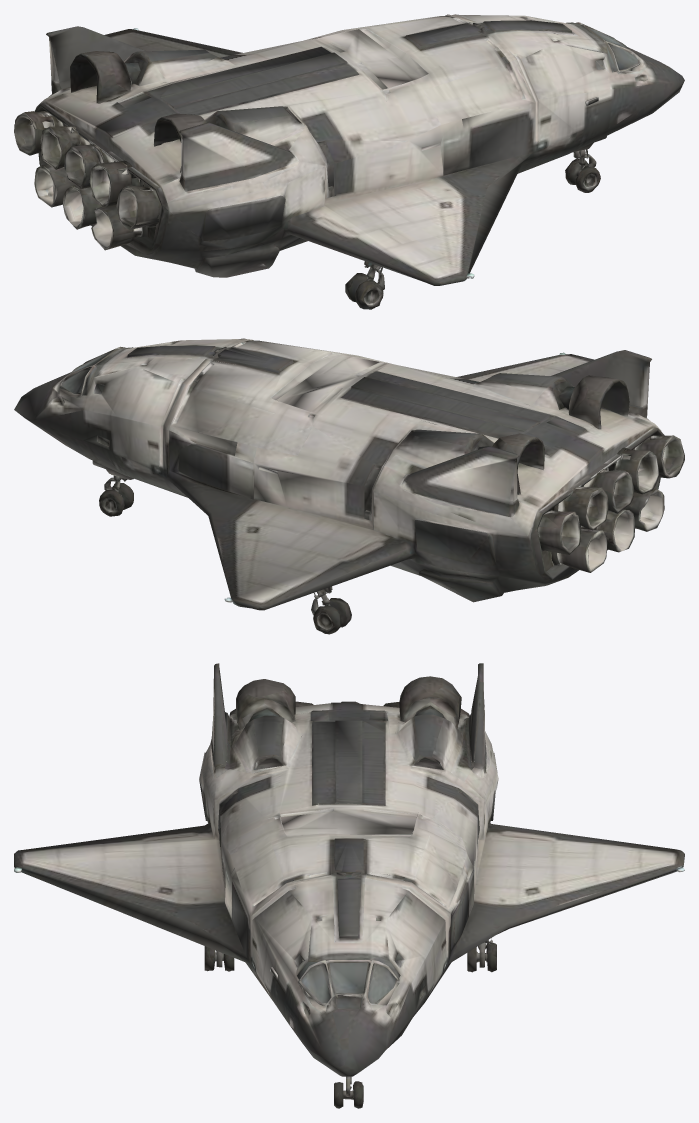
File: shuttle.glb
The picture shows the model from 3 angles, top to bottom: view 1: azimuth 30°, elevation 25°; view 2: azimuth 150°, elevation 25°; view 3: azimuth 270°, elevation 25°; orthographic projection.
Visible parts, largest first — view 1: tripo_node_48f96d81-095a-4e0e-8f1d-68c1a0c48f81; view 2: tripo_node_48f96d81-095a-4e0e-8f1d-68c1a0c48f81; view 3: tripo_node_48f96d81-095a-4e0e-8f1d-68c1a0c48f81.
Part boxes in pixels (x1,y1,x2,y2): tripo_node_48f96d81-095a-4e0e-8f1d-68c1a0c48f81: (14, 14, 684, 309); tripo_node_48f96d81-095a-4e0e-8f1d-68c1a0c48f81: (14, 338, 684, 634); tripo_node_48f96d81-095a-4e0e-8f1d-68c1a0c48f81: (14, 663, 684, 1108).
Bounding box in the file's own units: 0.998 × 0.3457 × 0.9628.
Materials: 1 (1 with a texture image).
